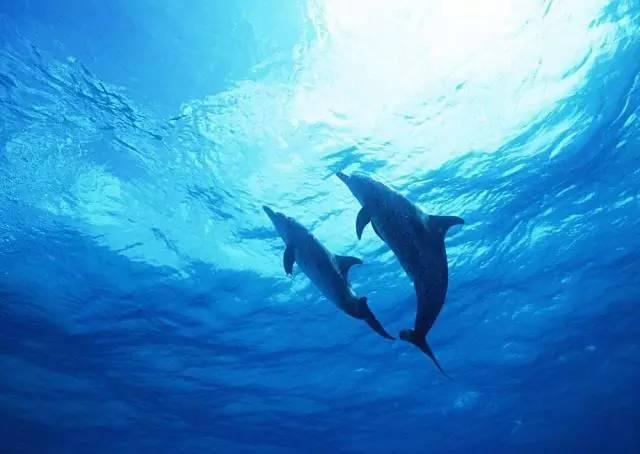fish: (333, 167, 474, 382), (261, 201, 396, 343)
